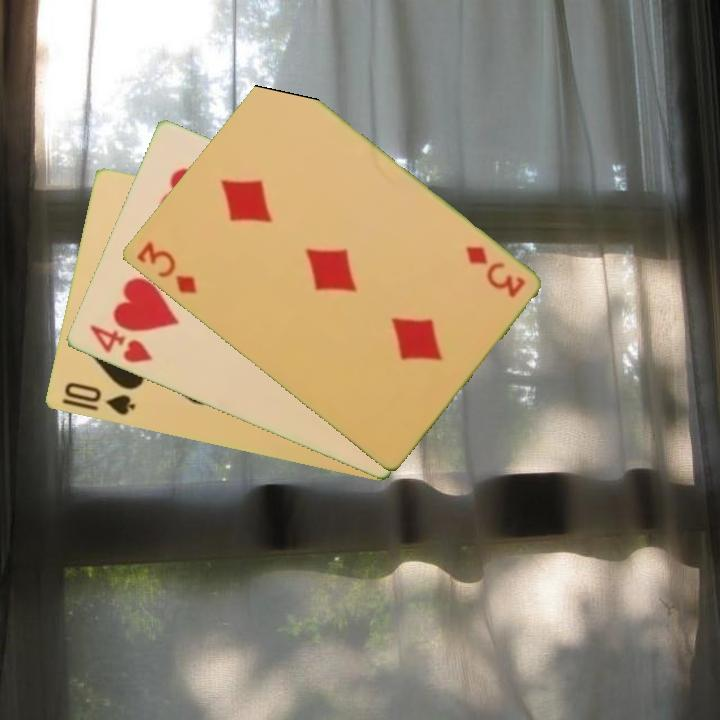10s: (58, 379, 138, 419)
3d: (132, 238, 200, 297), (461, 242, 528, 301)
4h: (85, 321, 155, 367)
